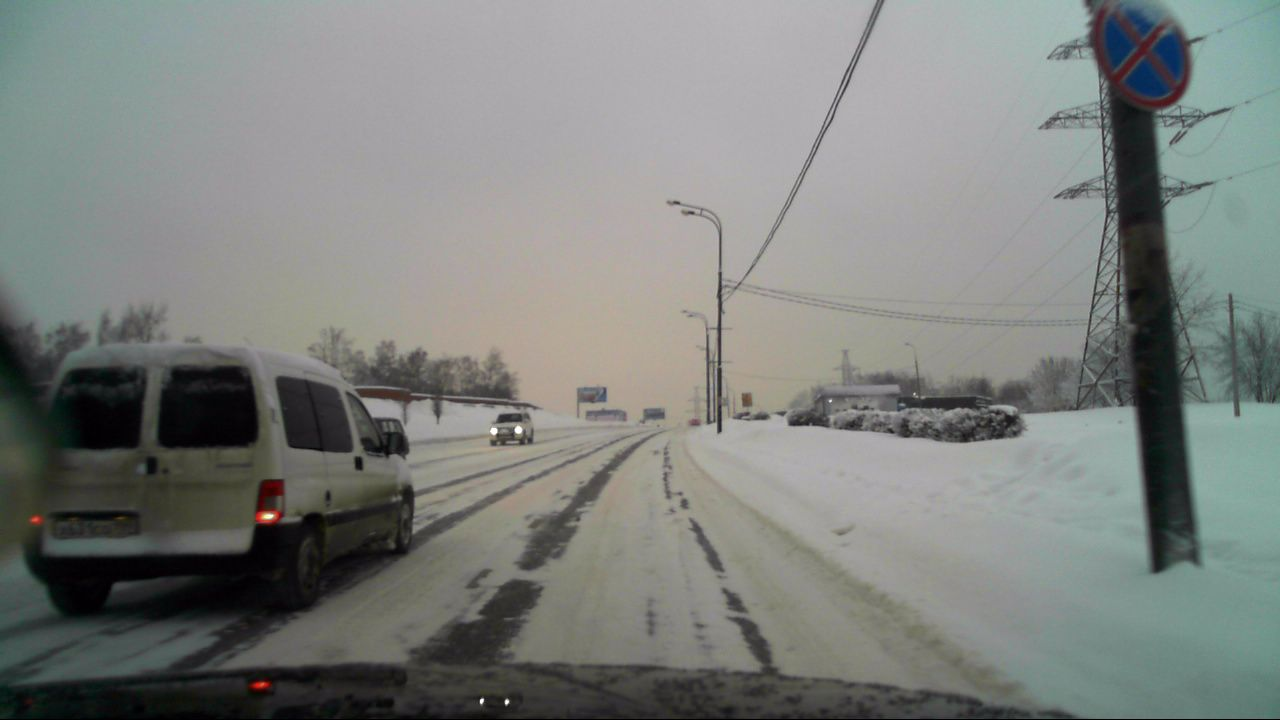No Parking: (1088, 0, 1202, 111)
